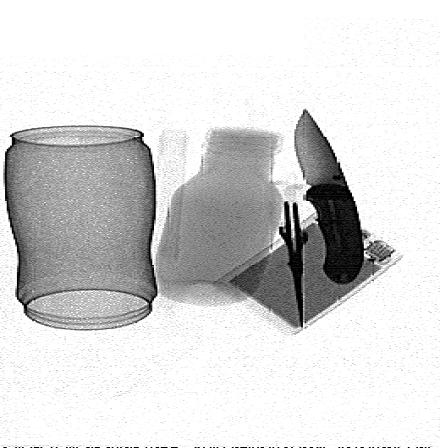Knife: (289, 103, 369, 285)
Powerbank: (210, 206, 410, 339)
Scissors: (247, 182, 329, 333)
